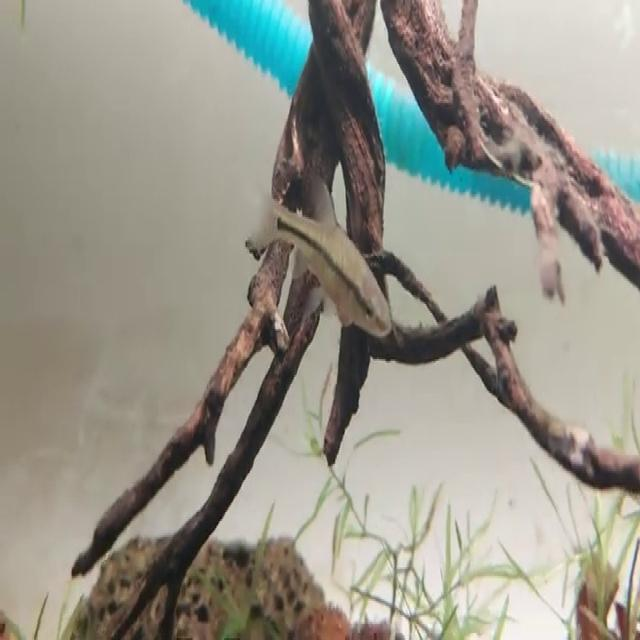Cakil Baligi: (242, 159, 394, 338)
